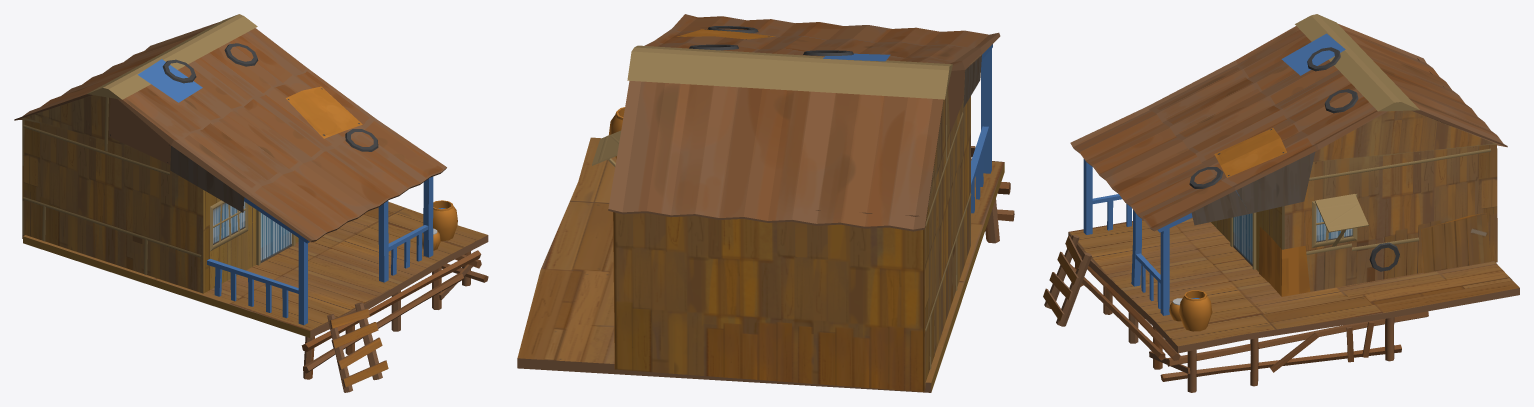
Rendered from SM_House1.fbx.
3 renders of one model, left to right at view 1: azimuth 30°, elevation 25°; view 2: azimuth 150°, elevation 25°; view 3: azimuth 270°, elevation 25°, orthographic. The views are drawn at different scales.
Parts seen in each view (by area): view 1: SM_House1; view 2: SM_House1; view 3: SM_House1.
Part boxes in pixels (<box>): SM_House1: <box>14,14,488,392</box>; SM_House1: <box>517,14,1014,392</box>; SM_House1: <box>1043,14,1519,392</box>.
Size of the model in its own units: 492 by 316 by 570.
